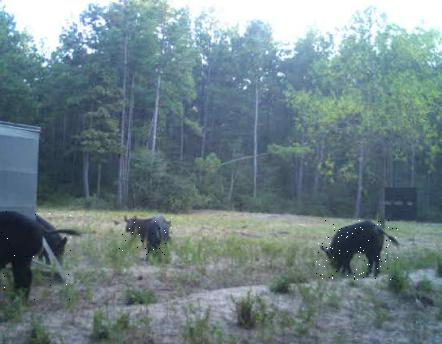Hog: (0, 208, 70, 310), (316, 220, 398, 281), (119, 217, 173, 257), (34, 211, 71, 259)
